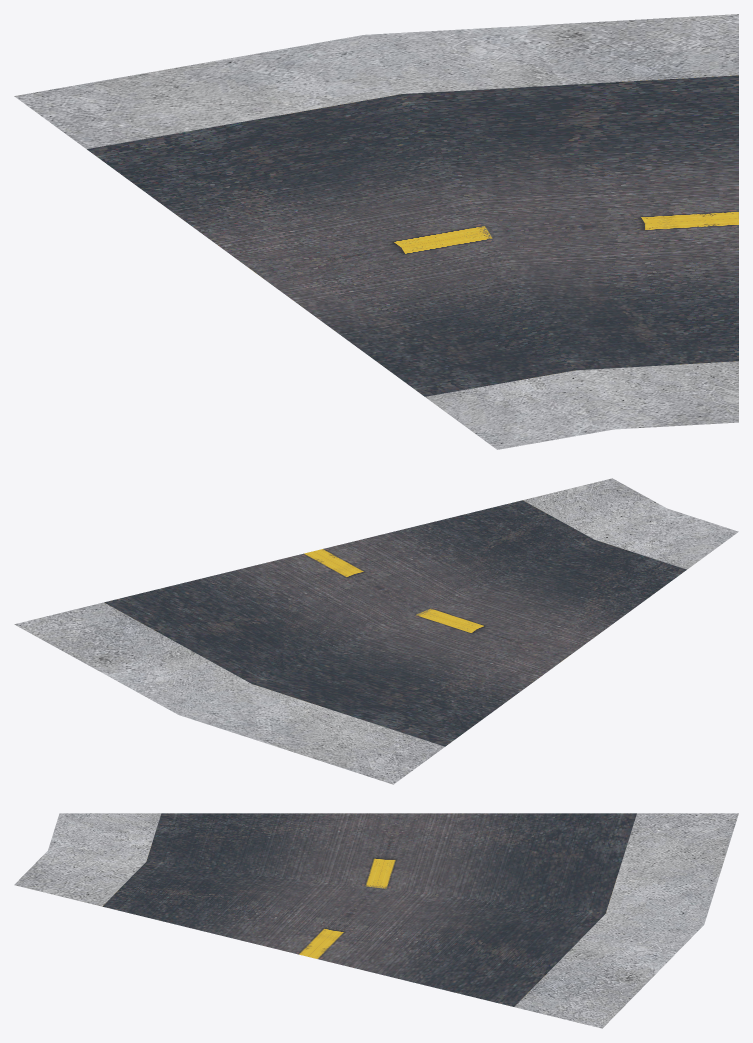
File: track_corner_B.fbx
3 renders of one model, top to bottom at view 1: azimuth 30°, elevation 25°; view 2: azimuth 150°, elevation 25°; view 3: azimuth 270°, elevation 25°, orthographic. The views are drawn at different scales.
Visible parts, largest first — view 1: track_curve_B; view 2: track_curve_B; view 3: track_curve_B.
Part boxes in pixels (x1,y1,x2,y2): track_curve_B: (14, 14, 738, 449); track_curve_B: (14, 478, 738, 784); track_curve_B: (14, 813, 738, 1028).
Size of the model in its own units: 7.5 by 0 by 10.67.
Materials: 2 (2 with a texture image).
